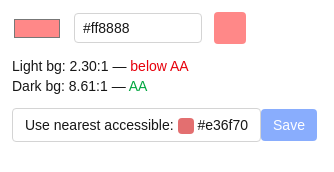
Test case: AccentColorForm › clicking 'Use nearest accessible' updates the input value
Click the button "Use nearest accessible: #e36f70" at (136, 125), box [12, 108, 261, 142]
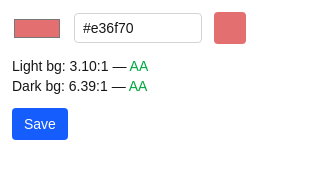
Check: the field does not hold "#ff8888", box [74, 13, 202, 43]
